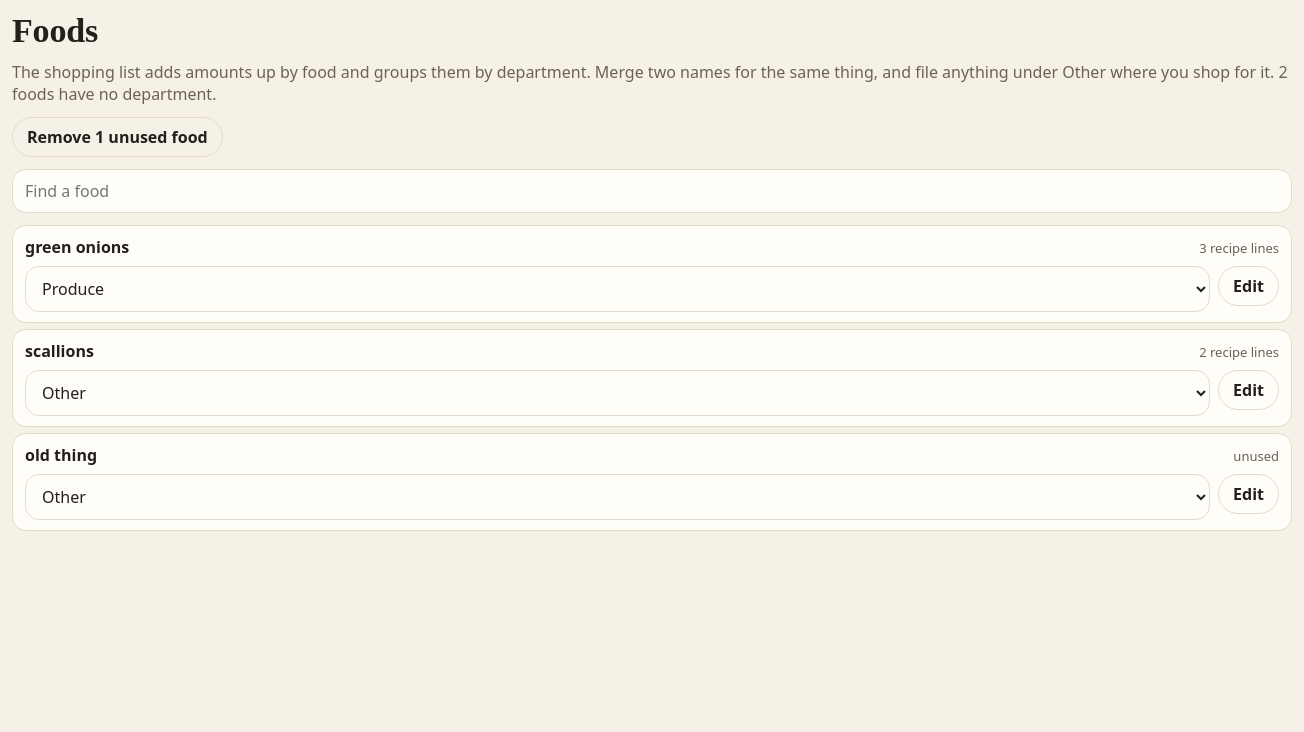
Test: Foods › filters by name
Type "scal" into the search field labelled "Find a food" at point(652, 191), box x1=12 y1=169 x2=1292 y2=213
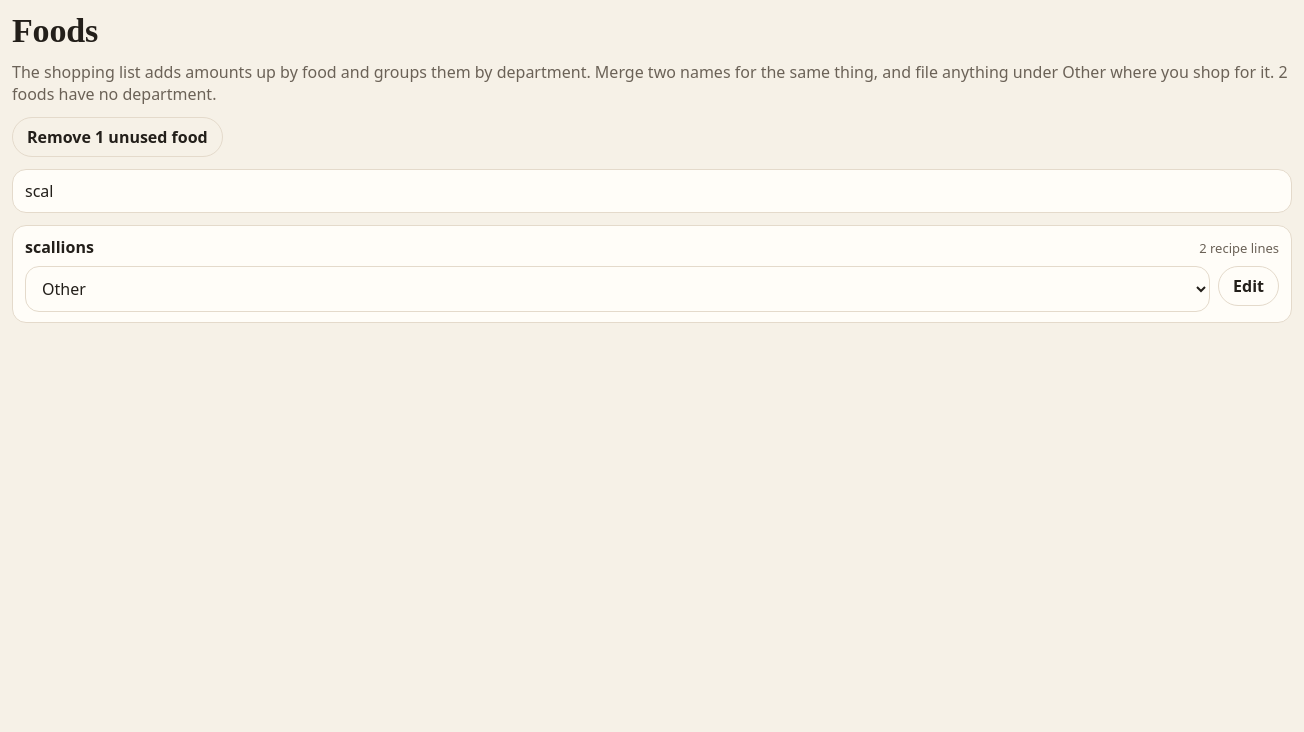
expect the text "scallions" is shown: met, box x1=25 y1=236 x2=94 y2=258
expect the text "green onions" is gone: met
